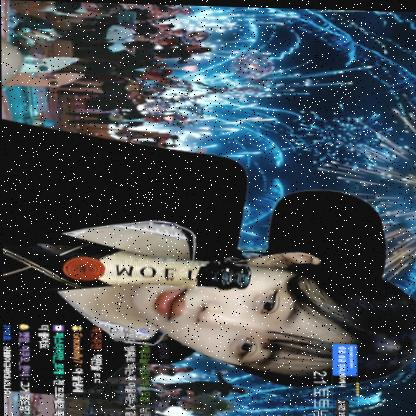streamer: (1, 118, 416, 404)
